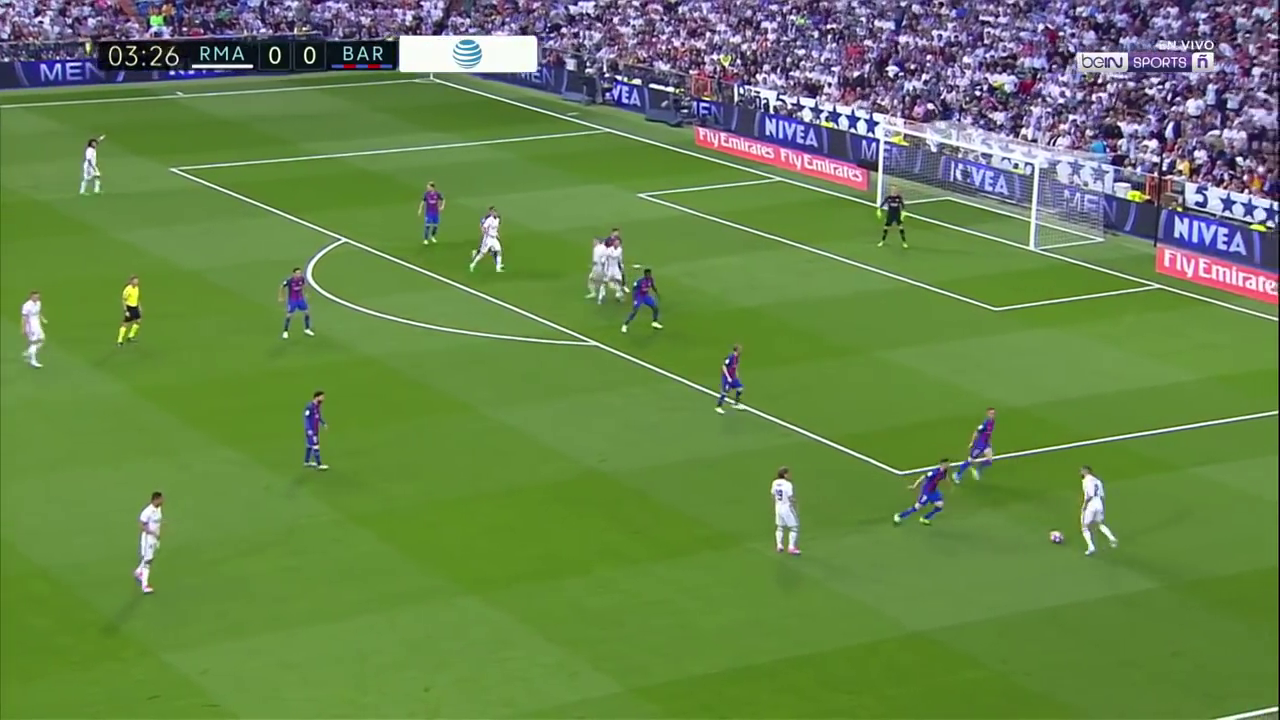ball: (1050, 530, 1063, 543)
player: (890, 457, 950, 529), (952, 403, 1001, 483), (1079, 463, 1117, 558), (132, 487, 164, 599), (276, 263, 315, 340), (621, 265, 665, 333), (769, 464, 801, 557), (16, 289, 52, 369), (303, 390, 334, 476), (713, 338, 746, 415), (114, 274, 143, 348), (877, 186, 910, 251), (414, 176, 444, 246), (78, 136, 110, 200), (472, 211, 502, 278), (598, 240, 624, 306), (587, 235, 607, 298), (605, 228, 623, 247)
